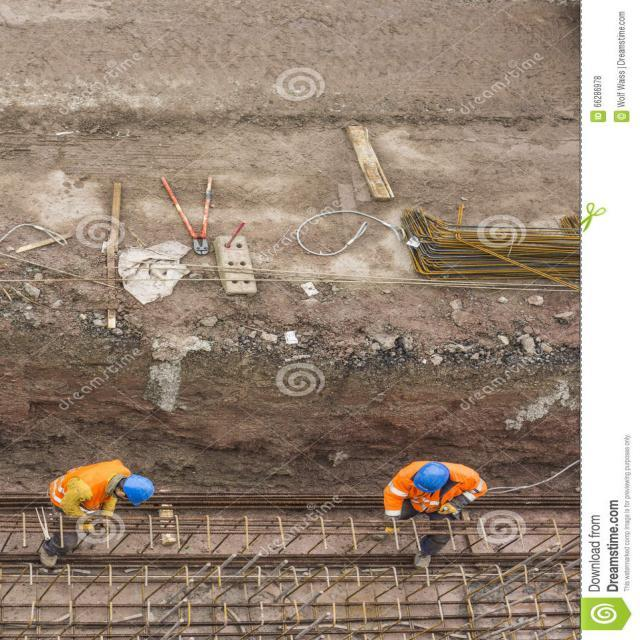reflective_jacket: (48, 460, 127, 518), (383, 464, 458, 514)
safety_helmet: (413, 461, 449, 490), (123, 474, 155, 504)
